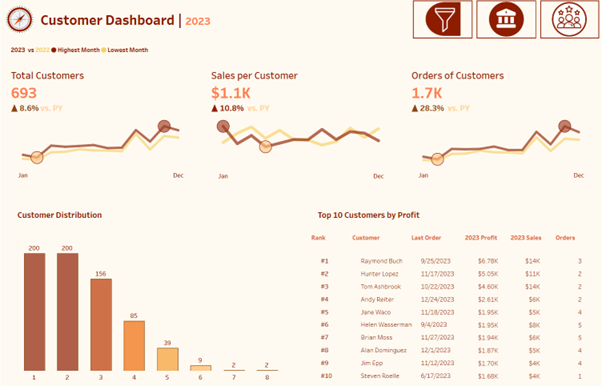

The page's visual inventory and layout, read from the dashboard file:
{"tool":"tableau","page":{"name":"Customer Dashboard","canvas":[1200,800],"ordinal":0},"visuals":[{"type":"image","param":"C:/Users/roxan/Desktop/Personal/Learning & Development/2. IHU DATA ANALYTICS IN ","box":[0,0,76,84]},{"type":"text","box":[76,0,744,84]},{"type":"dashboard-object","box":[820,0,127,84]},{"type":"dashboard-object","box":[947,0,127,84]},{"type":"dashboard-object","box":[1074,0,126,84]},{"type":"blank","box":[986,13,200,41]},{"type":"text","box":[986,54,200,45]},{"type":"worksheet","title":"Legend KPI","mark":"Automatic","box":[0,84,1200,43]},{"type":"parameter","param":"[Parameters].[Order Date (Years) Parameter]","box":[986,99,200,59]},{"type":"worksheet","title":"KPI Nr of Customers","mark":"Line","rows":["Calculation_0832667982249992"],"cols":["Order Date"],"box":[0,127,400,258]},{"type":"worksheet","title":"KPI Sales per Customer","mark":"Circle","rows":["Calculation_0832668084265000"],"cols":["Order Date"],"box":[400,127,400,258]},{"type":"worksheet","title":"Customer Orders","mark":"Line","rows":["Calculation_0832667981959175"],"cols":["Order Date"],"box":[800,127,400,258]},{"type":"text","box":[986,158,200,31]},{"type":"filter","title":"Customer Orders","param":"[federated.02gtvv01ky5os819cikn412mkq9s].[none:Category:nk]","box":[986,189,200,58]},{"type":"filter","title":"Customer Orders","param":"[federated.02gtvv01ky5os819cikn412mkq9s].[none:Sub-Category:nk]","box":[986,247,200,58]},{"type":"blank","box":[986,305,200,42]},{"type":"text","box":[986,347,200,36]},{"type":"filter","title":"Customer Orders","param":"[federated.02gtvv01ky5os819cikn412mkq9s].[none:Region:nk]","box":[986,383,200,58]},{"type":"text","box":[17,402,566,59]},{"type":"text","box":[617,402,566,60]},{"type":"filter","title":"Customer Orders","param":"[federated.02gtvv01ky5os819cikn412mkq9s].[none:State:nk]","box":[986,441,200,58]},{"type":"worksheet","title":"Customer Distribution","mark":"Bar","rows":["Calculation_0832668056748063"],"cols":["Calculation_0832668089724972"],"box":[17,461,566,322]},{"type":"text","box":[617,462,80.2,32]},{"type":"text","box":[697.2,462,118,32]},{"type":"text","box":[815.2,462,107,32]},{"type":"text","box":[922.2,462,92.2,32]},{"type":"text","box":[1014.5,462,92.2,32]},{"type":"text","box":[1106.7,462,76.2,32]},{"type":"worksheet","title":"Top Customers","mark":"Text","rows":["Customer Name","Order Date"],"box":[617,494,566,289]},{"type":"filter","title":"Customer Orders","param":"[federated.02gtvv01ky5os819cikn412mkq9s].[none:City:nk]","box":[986,499,200,58]}]}

Visuals, with their boxes on the page's 1200x800 design canvas (x1, y1, x2, y2). These are canvas units, not pixel positions in the 602x386 screenshot, which may show the page scaled, cropped or inside an application window:
image: left=0, top=0, right=76, bottom=84
text: left=76, top=0, right=820, bottom=84
dashboard-object: left=820, top=0, right=947, bottom=84
dashboard-object: left=947, top=0, right=1074, bottom=84
dashboard-object: left=1074, top=0, right=1200, bottom=84
blank: left=986, top=13, right=1186, bottom=54
text: left=986, top=54, right=1186, bottom=99
"Legend KPI" worksheet: left=0, top=84, right=1200, bottom=127
parameter: left=986, top=99, right=1186, bottom=158
"KPI Nr of Customers" worksheet (Line marks): left=0, top=127, right=400, bottom=385
"KPI Sales per Customer" worksheet (Circle marks): left=400, top=127, right=800, bottom=385
"Customer Orders" worksheet (Line marks): left=800, top=127, right=1200, bottom=385
text: left=986, top=158, right=1186, bottom=189
"Customer Orders" filter: left=986, top=189, right=1186, bottom=247
"Customer Orders" filter: left=986, top=247, right=1186, bottom=305
blank: left=986, top=305, right=1186, bottom=347
text: left=986, top=347, right=1186, bottom=383
"Customer Orders" filter: left=986, top=383, right=1186, bottom=441
text: left=17, top=402, right=583, bottom=461
text: left=617, top=402, right=1183, bottom=462
"Customer Orders" filter: left=986, top=441, right=1186, bottom=499
"Customer Distribution" worksheet (Bar marks): left=17, top=461, right=583, bottom=783
text: left=617, top=462, right=697, bottom=494
text: left=697, top=462, right=815, bottom=494
text: left=815, top=462, right=922, bottom=494
text: left=922, top=462, right=1014, bottom=494
text: left=1014, top=462, right=1107, bottom=494
text: left=1107, top=462, right=1183, bottom=494
"Top Customers" worksheet (Text marks): left=617, top=494, right=1183, bottom=783
"Customer Orders" filter: left=986, top=499, right=1186, bottom=557
